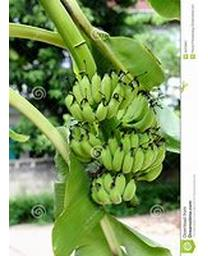banana: (63, 70, 169, 207)
